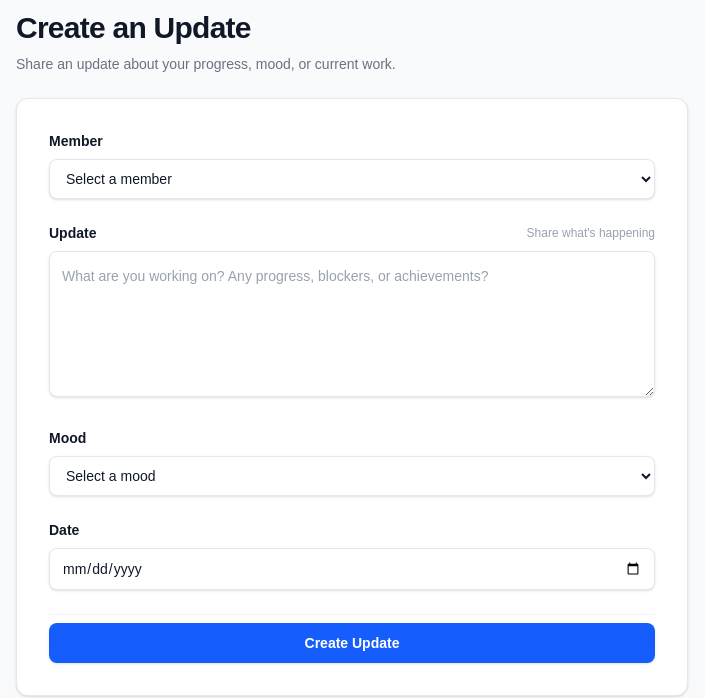
Test case: CreateUpdate Page › shows validation errors when submitting an empty form
Click the button "Create Update": (352, 643) left=49, top=623, right=655, bottom=663
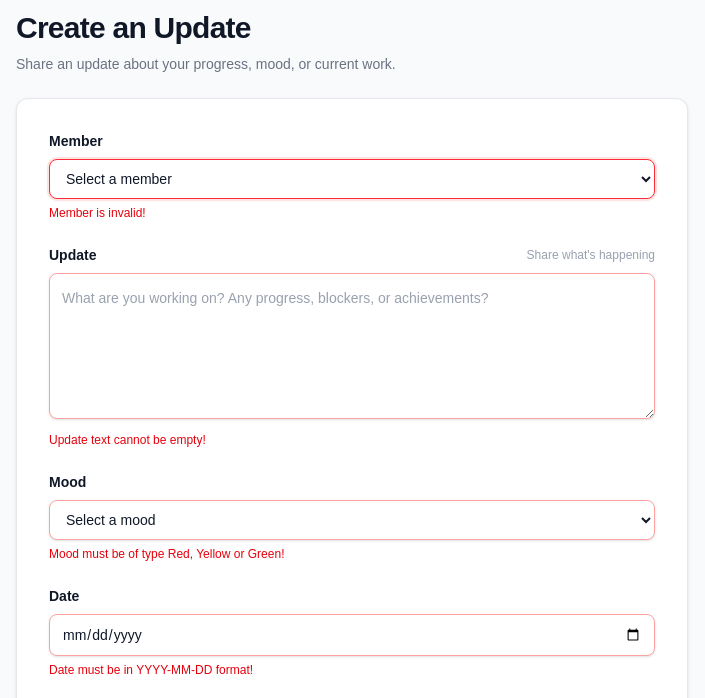
Check: the text "Member is invalid!" is shown, box left=49, top=206, right=146, bottom=220
Check: the text "Update text cannot be empty!" is shown, box left=49, top=433, right=206, bottom=447
Check: the text "Mood must be of type Red, Yellow or Green!" is shown, box left=49, top=547, right=284, bottom=561
